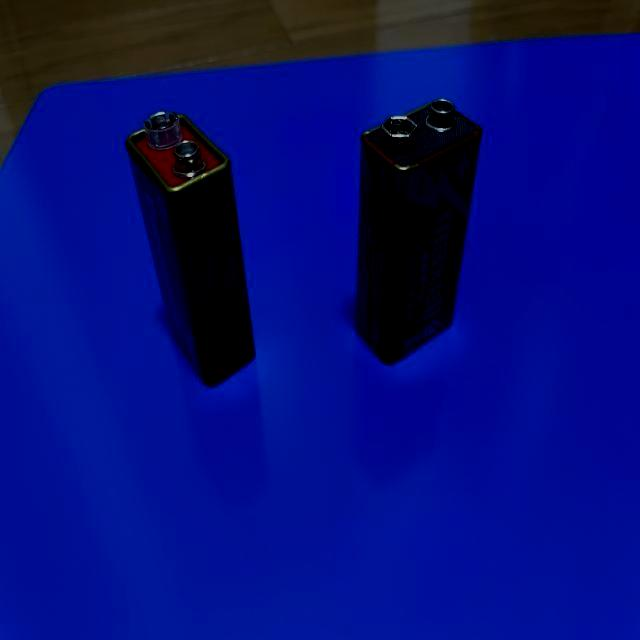9V: (127, 110, 257, 388), (355, 98, 484, 369)
